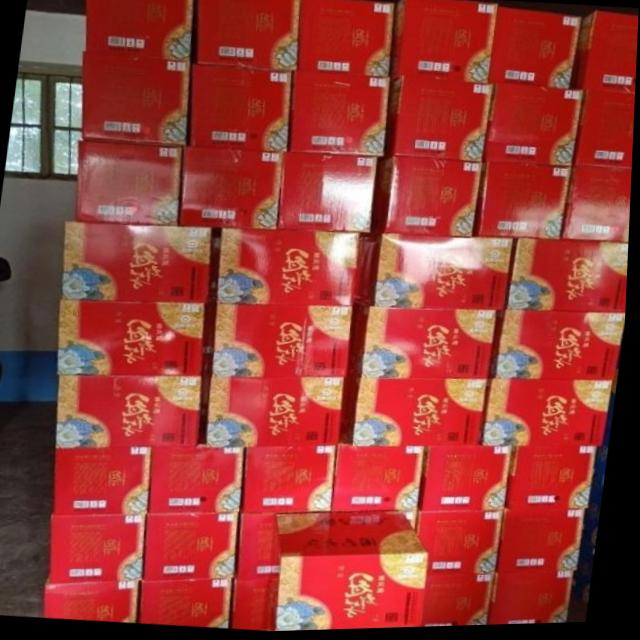box: (273, 514, 434, 633), (64, 220, 214, 305), (360, 235, 516, 313), (59, 300, 209, 376), (219, 228, 361, 306), (347, 373, 491, 448), (59, 375, 203, 448), (83, 50, 190, 145), (363, 308, 500, 382), (217, 305, 353, 378), (209, 377, 348, 447), (384, 79, 493, 165), (498, 312, 628, 384), (78, 138, 182, 227), (190, 62, 293, 151), (390, 0, 496, 86), (510, 242, 631, 316), (376, 158, 485, 240), (486, 381, 615, 450), (182, 146, 283, 231), (289, 74, 391, 158), (280, 151, 379, 234), (487, 87, 583, 170), (193, 0, 300, 73), (298, 0, 394, 78), (477, 164, 571, 243), (490, 9, 580, 91), (57, 446, 157, 515), (152, 445, 249, 514), (54, 515, 151, 584), (148, 514, 243, 582), (245, 447, 341, 514), (334, 446, 429, 513), (86, 0, 192, 59), (424, 448, 515, 514), (510, 450, 601, 514), (570, 15, 639, 98), (421, 513, 507, 577), (501, 513, 589, 574), (565, 170, 633, 246), (574, 93, 636, 173), (143, 580, 238, 630), (495, 573, 579, 628), (428, 575, 500, 630), (51, 582, 145, 624), (240, 514, 278, 581), (237, 580, 281, 633)
